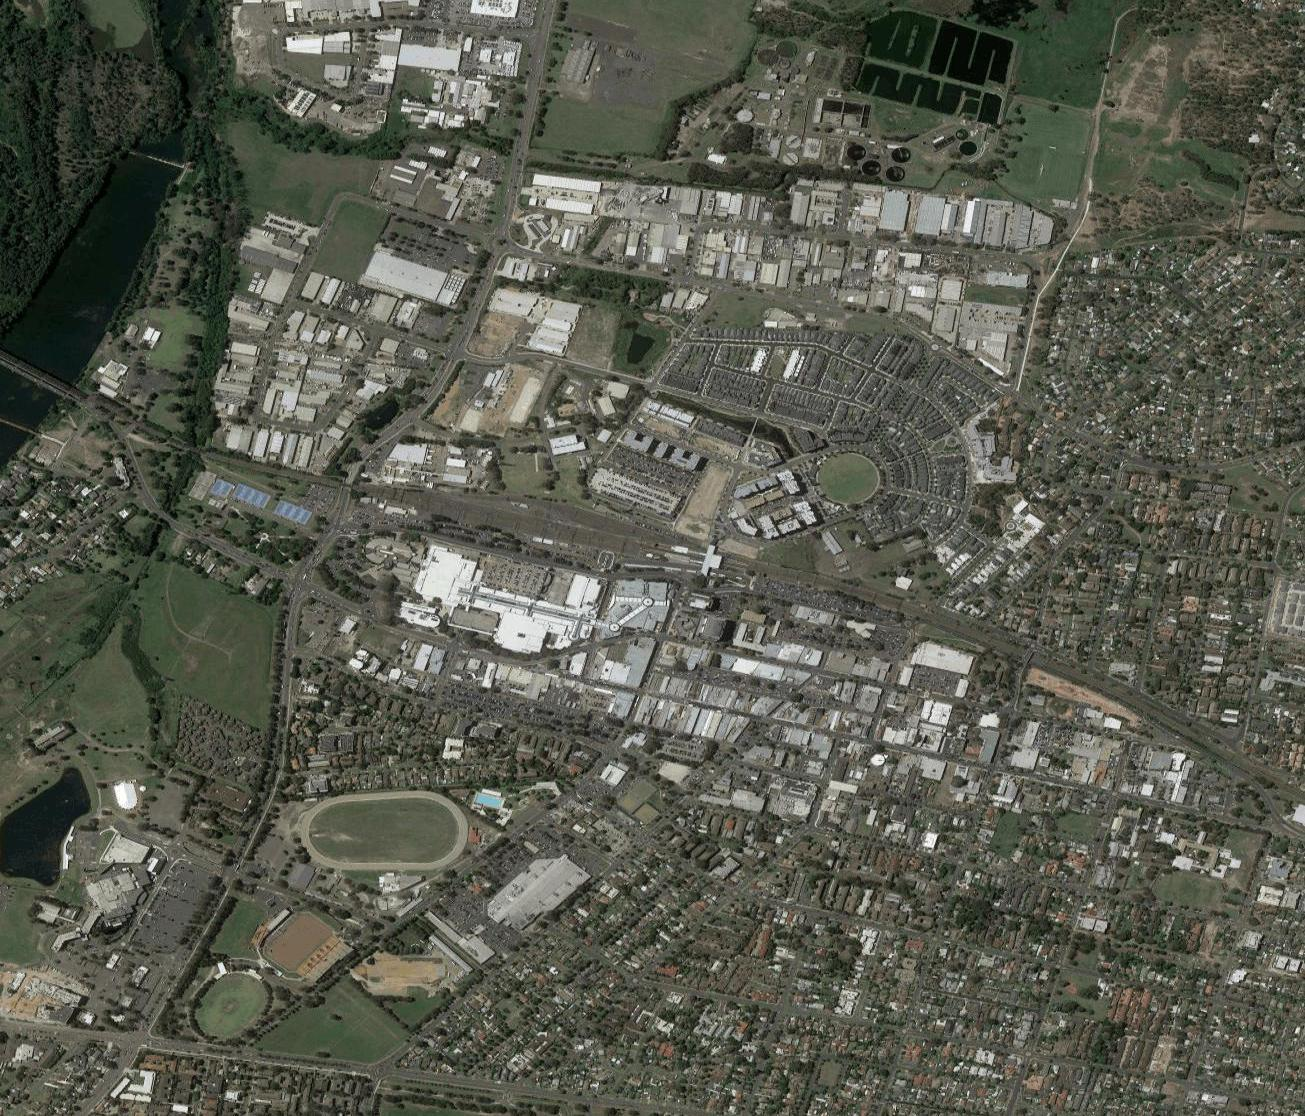bridge: (1, 345, 74, 397), (124, 142, 186, 173)
industrial: (230, 238, 710, 525), (537, 173, 1038, 351), (252, 1, 504, 176), (408, 552, 657, 725)
train_station: (633, 537, 725, 580)
